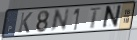1: (72, 8, 81, 32)
8: (35, 10, 50, 34)
K: (17, 12, 34, 34)
N: (100, 4, 123, 30), (49, 8, 71, 34)
T: (88, 7, 103, 30)
